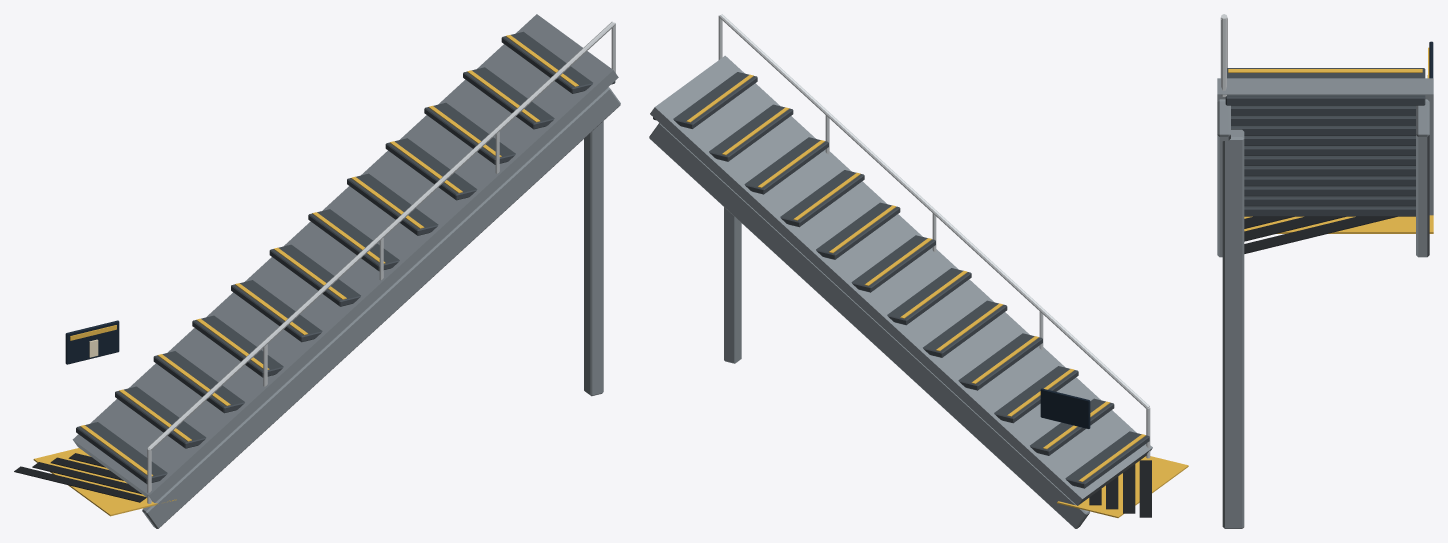
Rendered from Kit_Shaft_L1.fbx.
3 renders of one model, left to right at view 1: azimuth 30°, elevation 25°; view 2: azimuth 150°, elevation 25°; view 3: azimuth 270°, elevation 25°, orthographic. The views are drawn at different scales.
Parts seen in each view (by area): view 1: Decor, StairRamp, Stringers; view 2: Decor, StairRamp, Stringers; view 3: Decor, Stringers, StairRamp.
Boxes of the visible parts, box(x1,y1,x2,y2) form: Decor: box(14, 21, 620, 528); StairRamp: box(72, 14, 618, 502); Stringers: box(584, 121, 603, 396); Decor: box(649, 14, 1188, 528); StairRamp: box(650, 55, 1152, 505); Stringers: box(724, 207, 741, 363); Decor: box(1217, 14, 1433, 257); Stringers: box(1222, 129, 1244, 528); StairRamp: box(1217, 78, 1433, 215).
Size of the model in its own units: 32.54 by 22.75 by 8.
